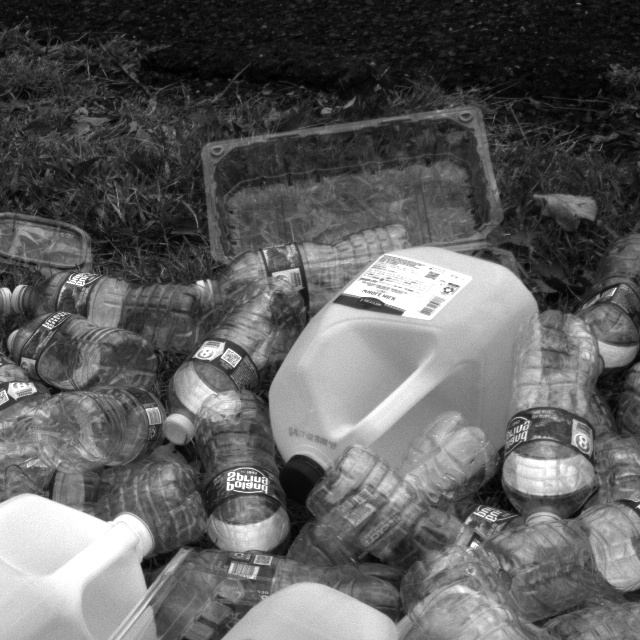bottle: (144, 243, 309, 457), (490, 277, 628, 528), (185, 367, 321, 578), (468, 471, 640, 626), (478, 461, 640, 624), (80, 259, 287, 357), (0, 380, 197, 472), (0, 304, 188, 393), (28, 247, 216, 334), (571, 221, 640, 388), (414, 583, 616, 640), (551, 536, 640, 640), (0, 336, 51, 455)
can: (235, 228, 569, 495), (45, 578, 518, 640), (0, 500, 171, 640)
container: (182, 82, 504, 283), (64, 517, 276, 640), (0, 216, 102, 284)
